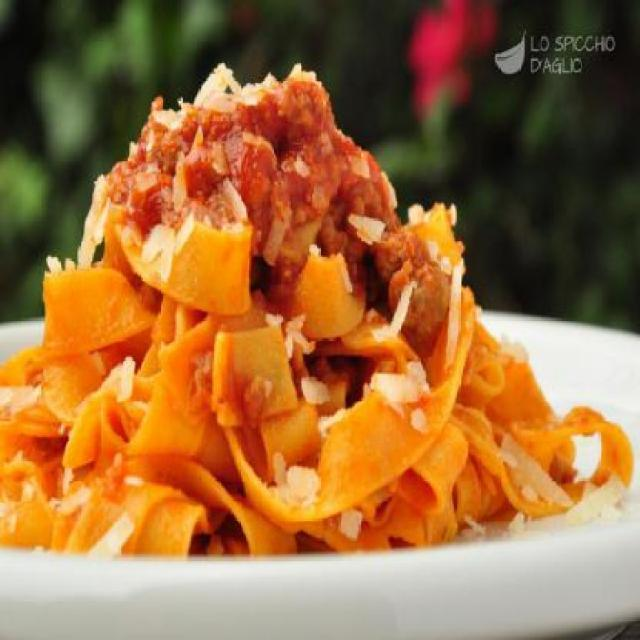Pasta al ragu: (46, 67, 482, 527)
